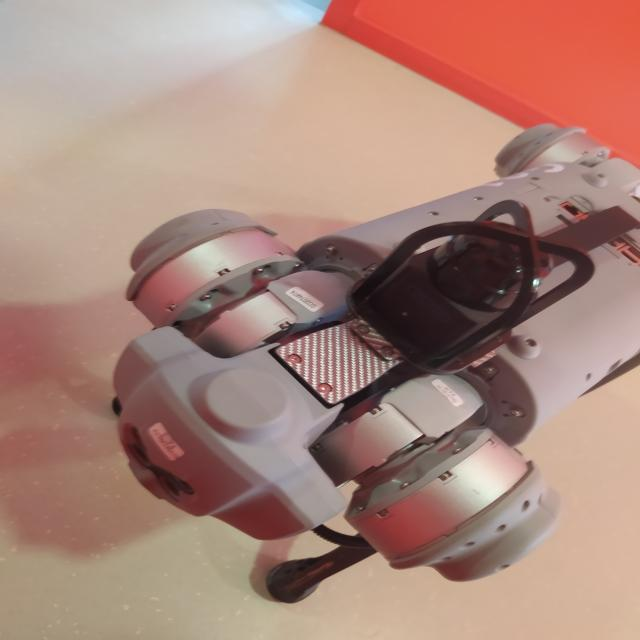unitree-go1-robot: (94, 116, 640, 608)
